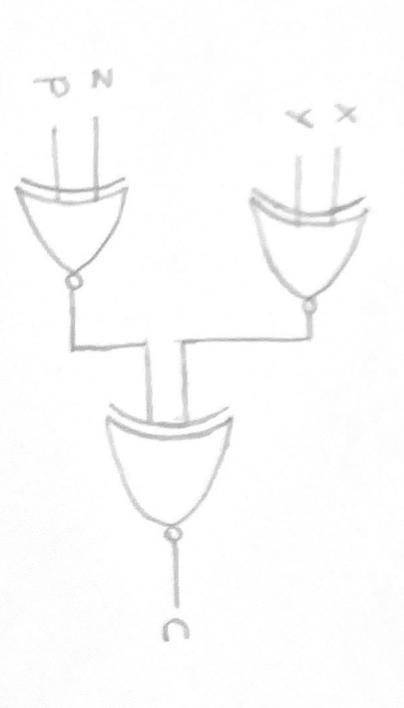XNOR: (71, 394, 264, 557), (234, 181, 381, 315), (4, 167, 150, 296)
